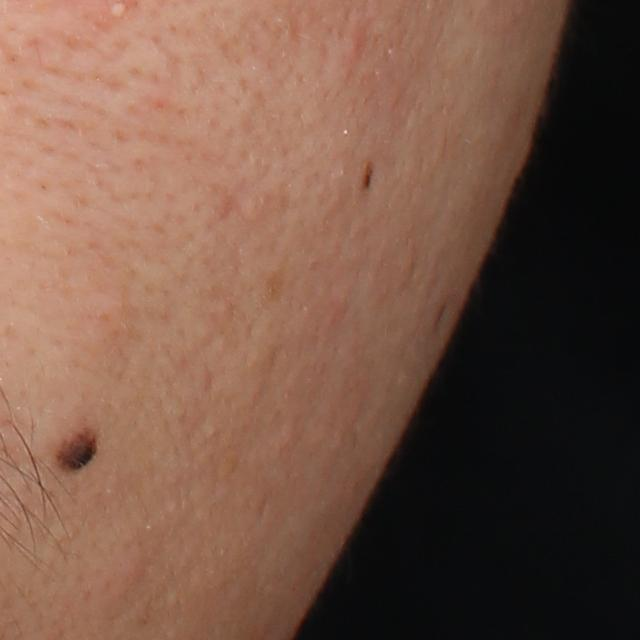nevus: (59, 427, 103, 477), (361, 160, 375, 192)
papule: (345, 30, 368, 56)
